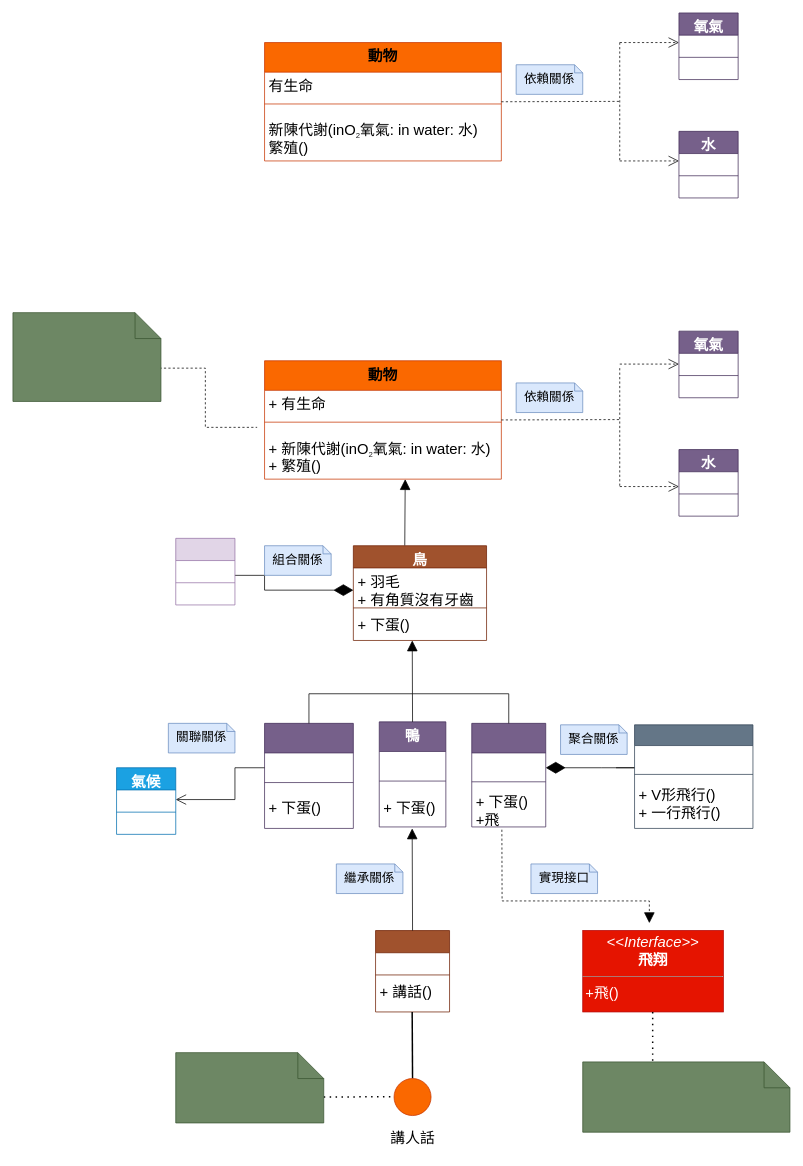
The diagram is 803 pixels wide and 1166 high, and some of its shapes have lost their labels. Each missing label, with the box of its shape:
企鵝: (264, 723, 353, 828)
唐老鴨: (375, 930, 450, 1012)
大雁: (471, 723, 546, 827)
接口 棒棒糖表示法 圓圈旁為接口名稱 接口方法在實現類中出現: (175, 1052, 324, 1123)
接口 矩形表示法,頂端有<<interface>> 第一行:接口名稱 第二行:接口方法: (582, 1061, 790, 1132)
翅膀: (175, 538, 235, 605)
雁群: (634, 724, 753, 828)
類 第一行:類名稱 第二行:屬性 第三行:方法 類名為斜體字則為抽象類: (12, 312, 161, 401)
